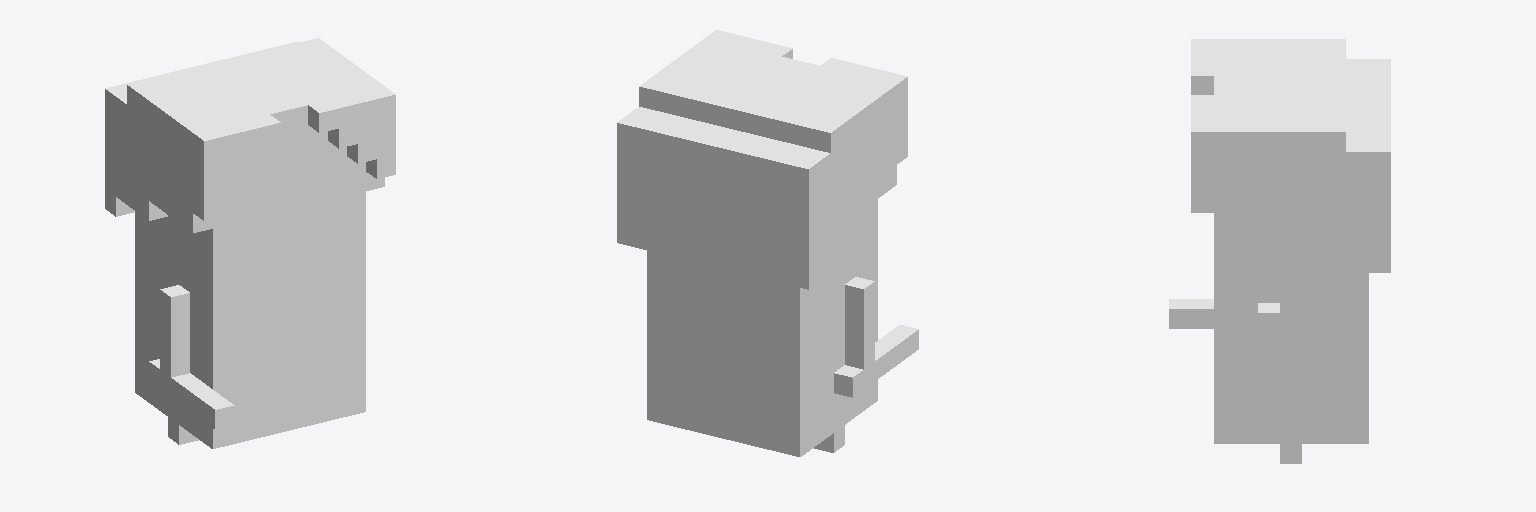
File: Iceman.obj
The picture shows the model from 3 angles: view 1: azimuth 30°, elevation 25°; view 2: azimuth 150°, elevation 25°; view 3: azimuth 270°, elevation 25°; orthographic projection.
Bounding box in the file's own units: 10 × 17 × 10.